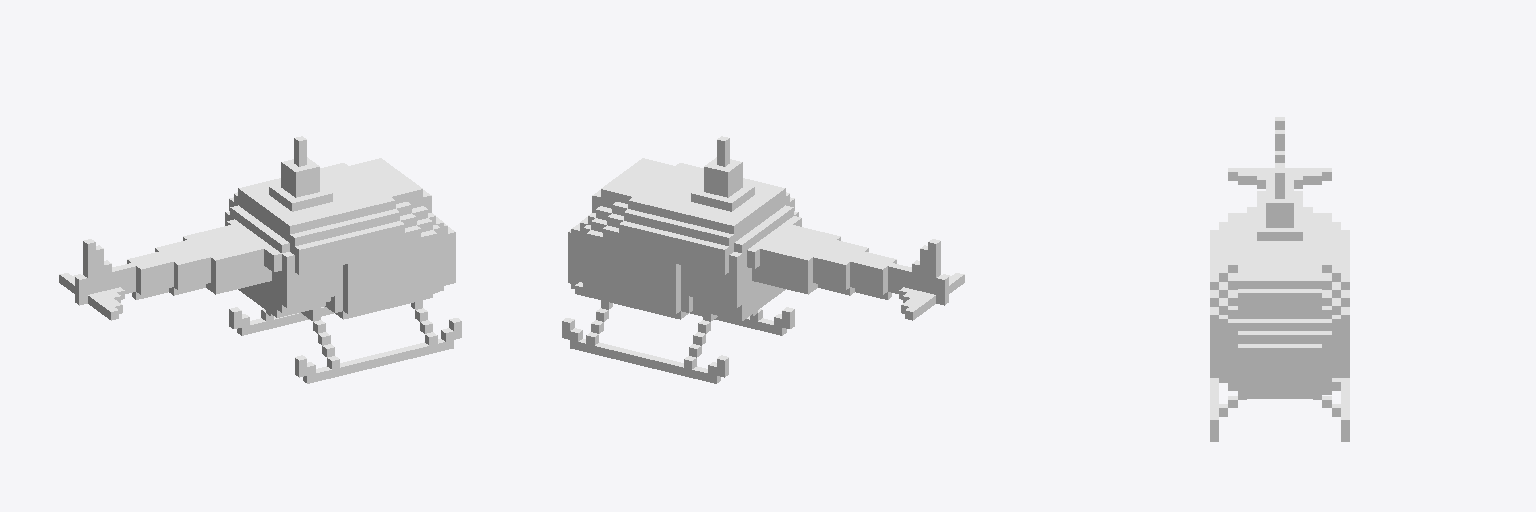
The model's file is gglive_hellicopter_main.obj.
3 views of the same model, side by side, from view 1: azimuth 30°, elevation 25°; view 2: azimuth 150°, elevation 25°; view 3: azimuth 270°, elevation 25° (orthographic).
Parts seen in each view (by area): view 1: gglive_hellicopter_main; view 2: gglive_hellicopter_main; view 3: gglive_hellicopter_main.
Part boxes in pixels (x1,y1,x2,y2): gglive_hellicopter_main: (59, 136, 461, 383); gglive_hellicopter_main: (562, 136, 964, 383); gglive_hellicopter_main: (1210, 117, 1349, 441).
Size of the model in its own units: 44 by 25 by 15.